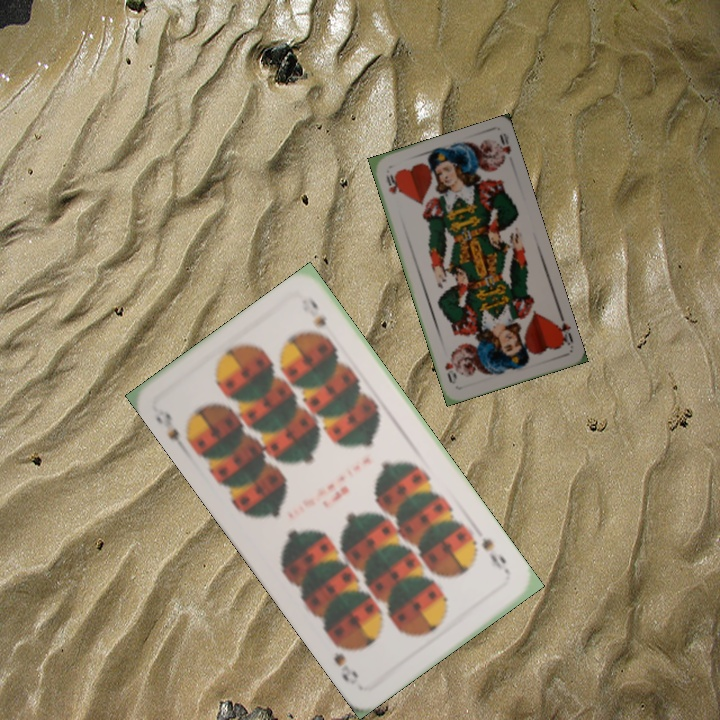HO: (550, 310, 576, 349), (382, 170, 402, 197)
S9: (151, 404, 190, 456), (477, 533, 513, 579)
